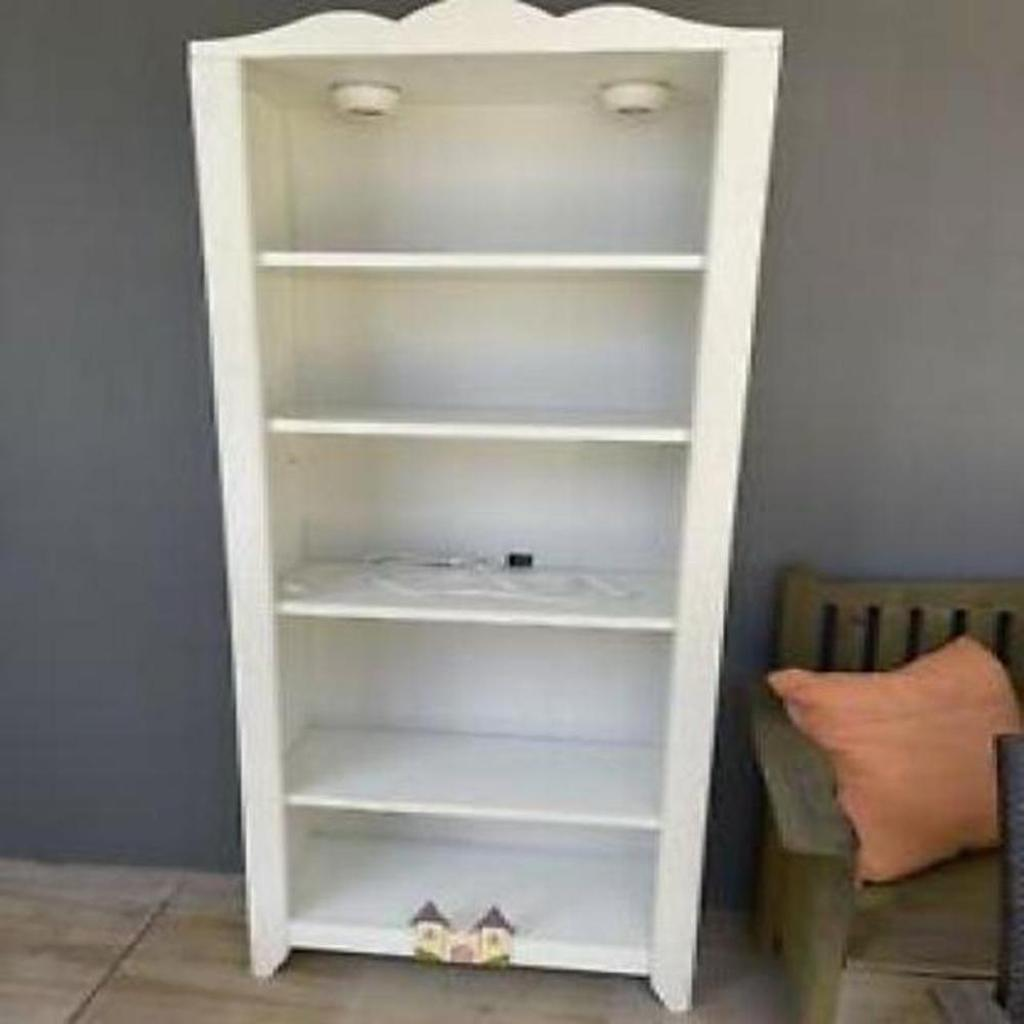lamp: (177, 0, 788, 1017)
